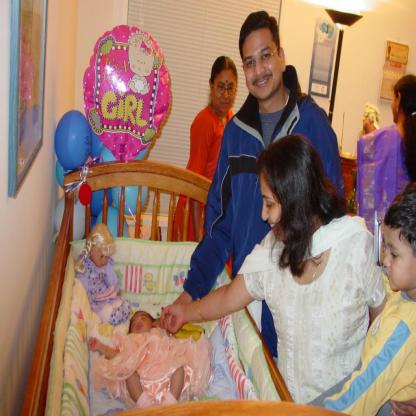face: (243, 33, 283, 100), (262, 158, 290, 243), (380, 227, 413, 292), (212, 68, 238, 114), (133, 313, 155, 336)
